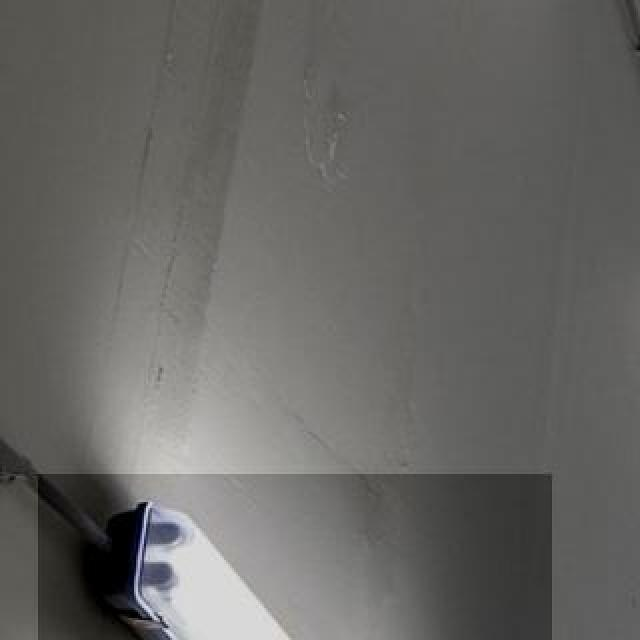fluorescent tube: (78, 484, 504, 640)
